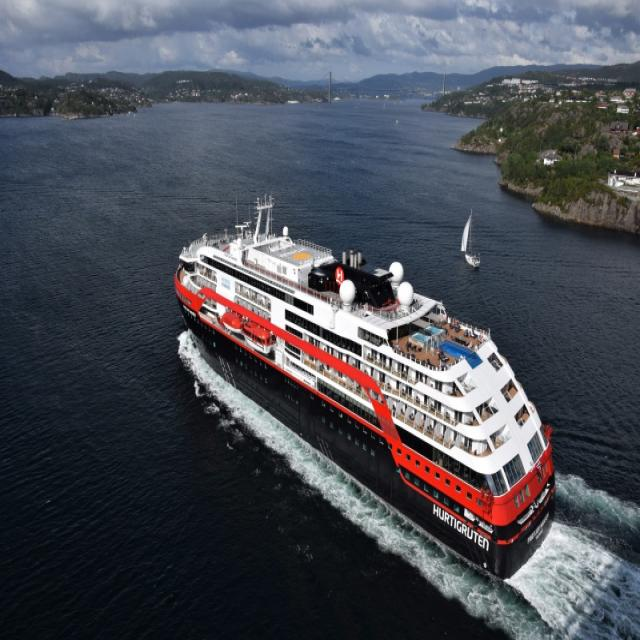cruises: (159, 196, 563, 586)
